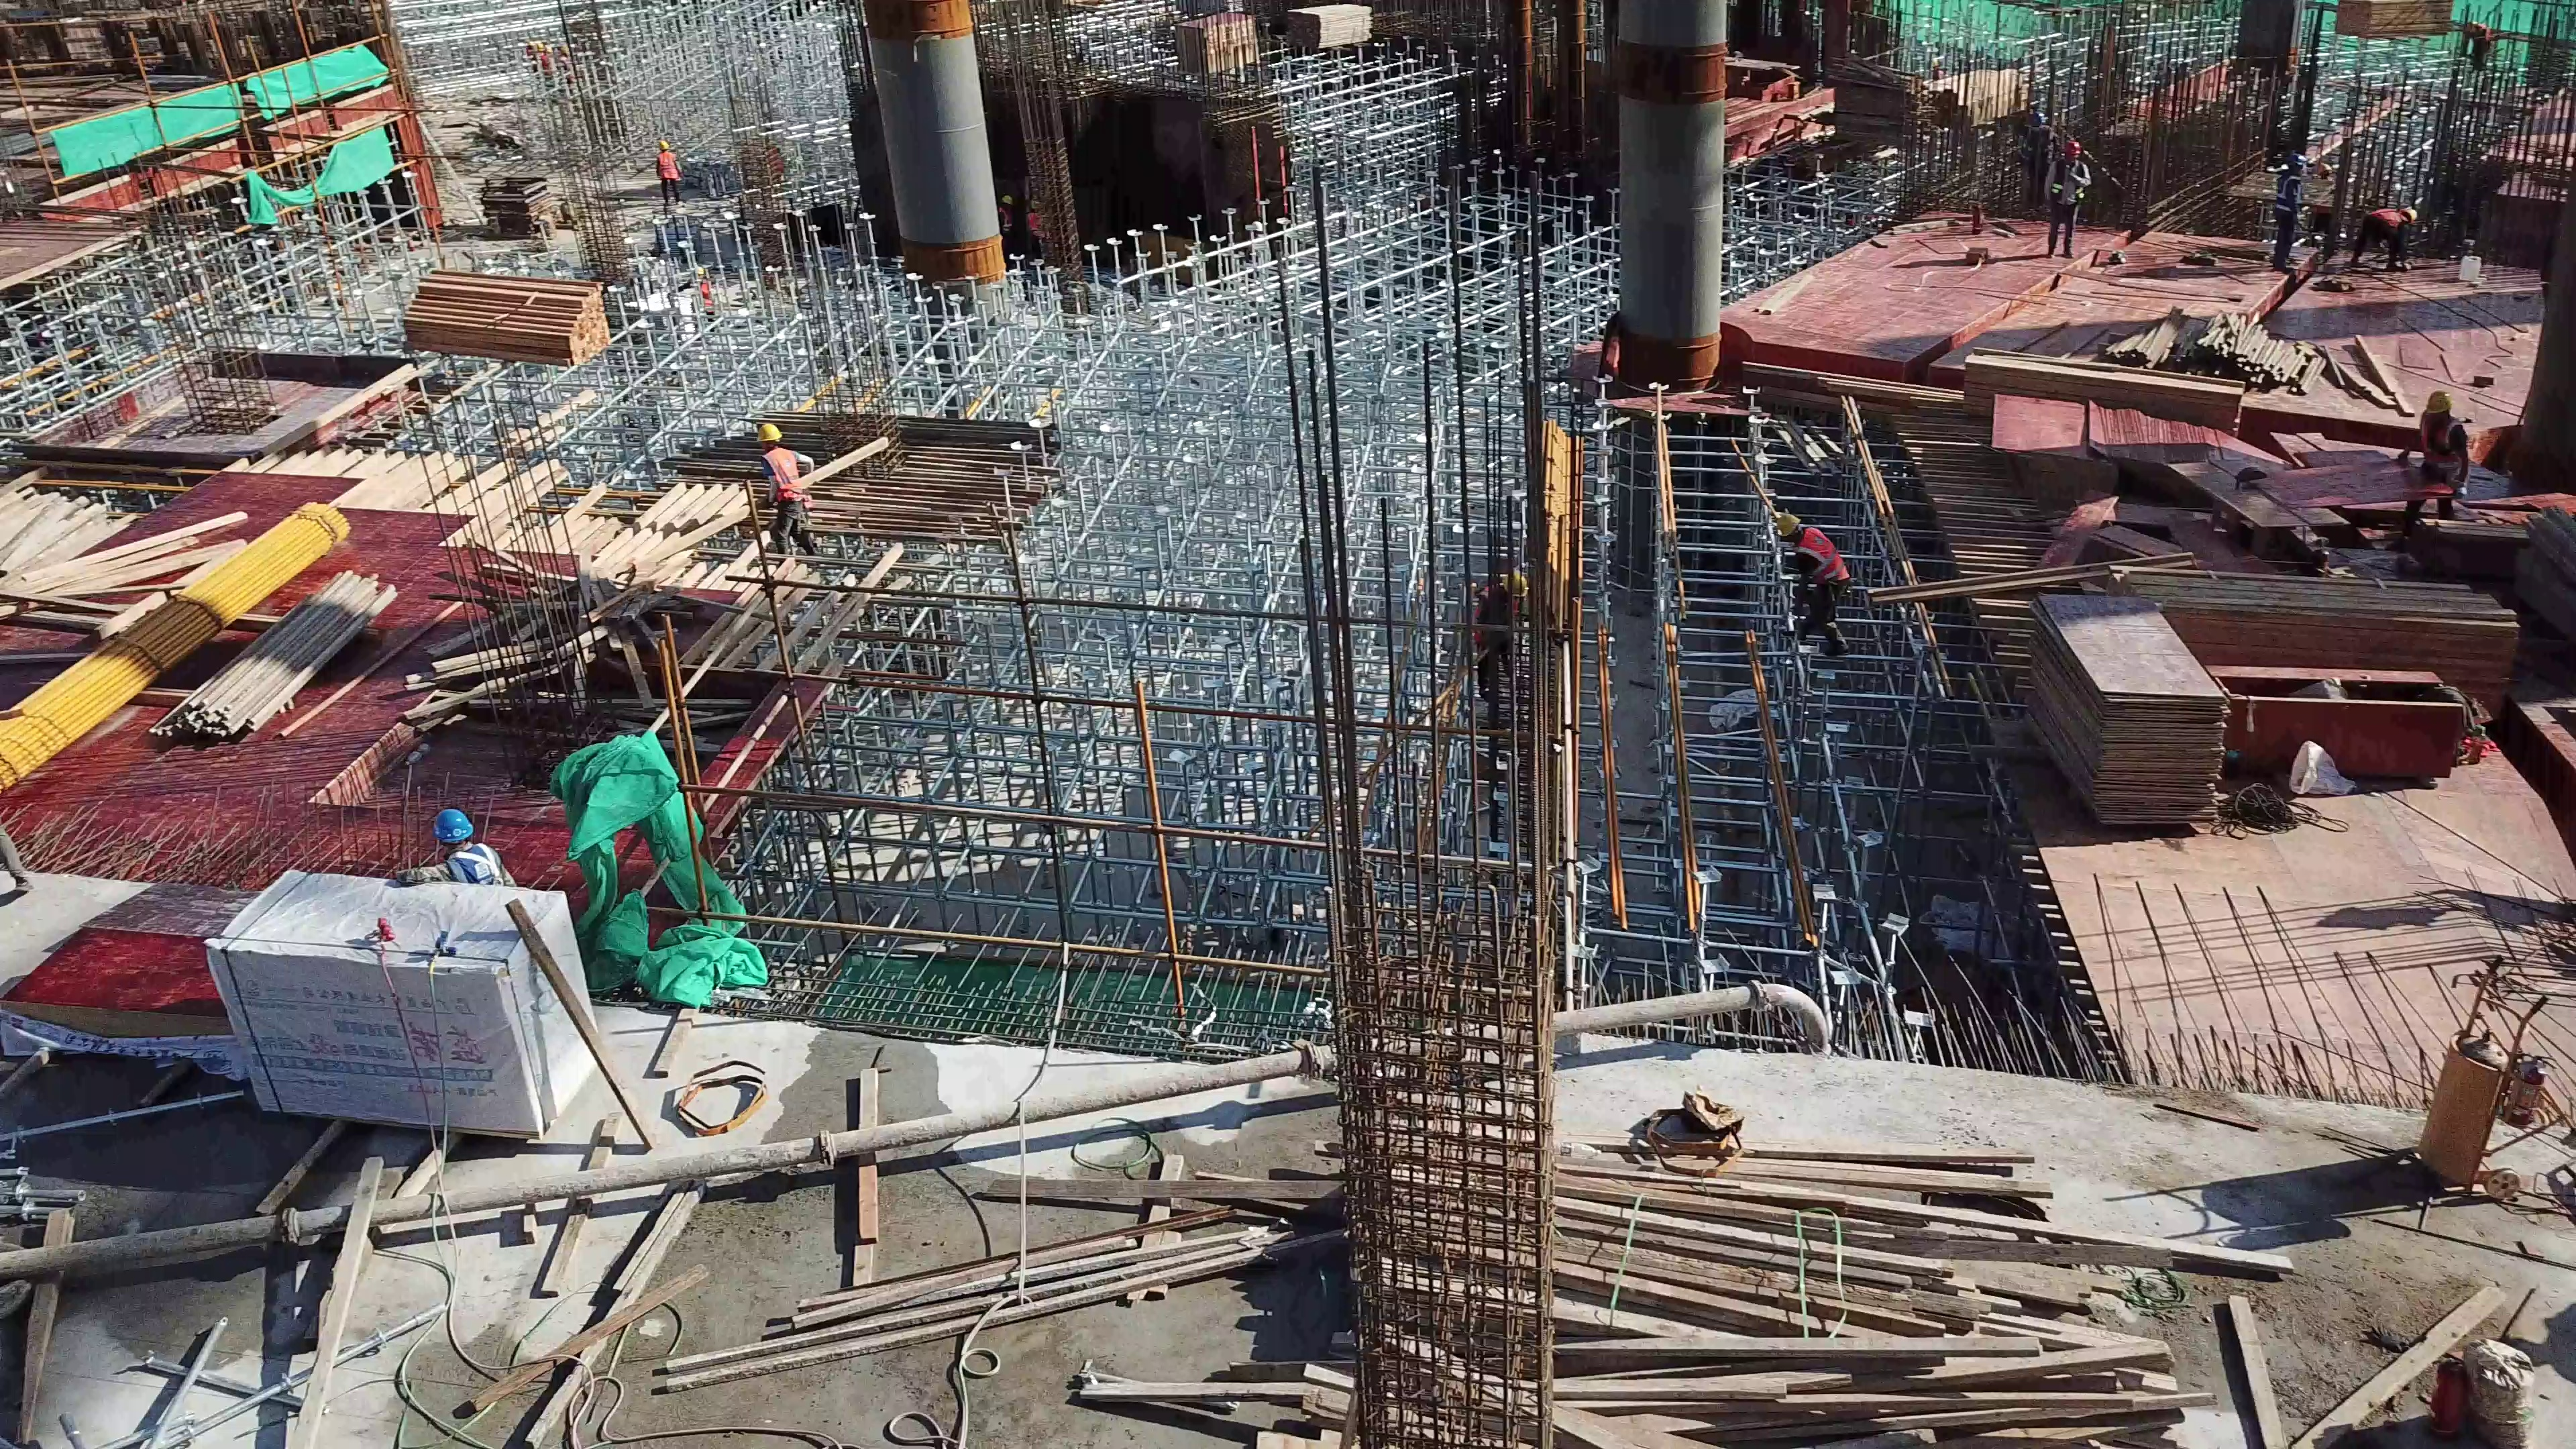board: (2031, 592, 2220, 819), (12, 930, 260, 1044), (1991, 394, 2259, 485), (1179, 13, 1254, 75)
cutter: (2169, 460, 2341, 554)
helmet: (430, 809, 478, 841), (1776, 511, 1801, 538), (1503, 571, 1530, 594), (2422, 390, 2449, 413), (758, 419, 778, 445), (2067, 140, 2082, 156), (2400, 207, 2416, 223), (2292, 155, 2306, 170), (999, 195, 1012, 207), (660, 139, 669, 151)
person: (392, 806, 525, 890), (1774, 512, 1850, 659), (2398, 390, 2467, 541), (753, 421, 822, 566), (1470, 572, 1528, 704), (2041, 141, 2087, 260), (2352, 205, 2420, 272), (2271, 150, 2306, 273), (2020, 105, 2053, 209), (676, 264, 718, 327), (656, 140, 685, 212), (1025, 195, 1049, 262), (2457, 21, 2491, 67), (1000, 195, 1013, 258), (556, 43, 572, 91), (541, 45, 553, 89)
vest: (1799, 525, 1847, 583), (765, 448, 802, 504), (449, 846, 502, 883), (2423, 414, 2457, 466), (2051, 159, 2088, 207), (2368, 205, 2402, 230), (2276, 172, 2296, 212), (658, 151, 676, 178), (1027, 211, 1042, 231), (1002, 209, 1010, 233)
wood: (2113, 563, 2515, 688), (1960, 350, 2239, 434), (407, 270, 609, 362), (2332, 1, 2465, 36), (1926, 76, 2017, 115), (1295, 5, 1363, 40)
